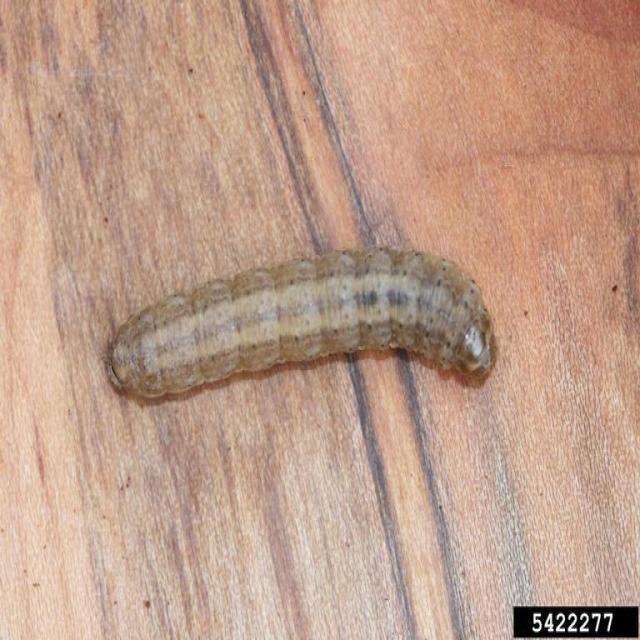BeetArmyWorm-Larva-: (100, 238, 500, 399)
